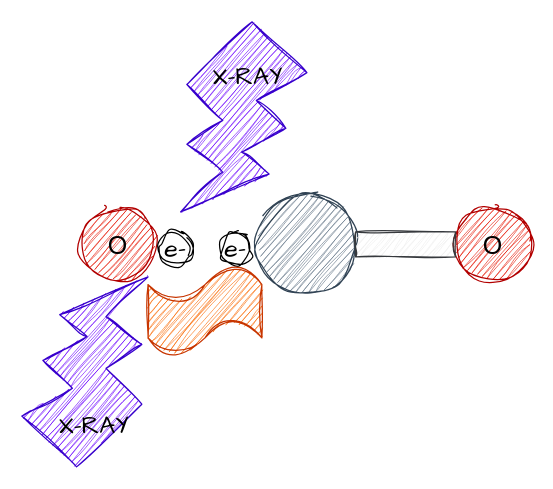
This 553x489 diagram has some shape labels left out. Here are the shapes that lost their labels. From the top down, the box of each, then its label:
(254, 193, 356, 294): SI
(147, 266, 262, 356): Defect
